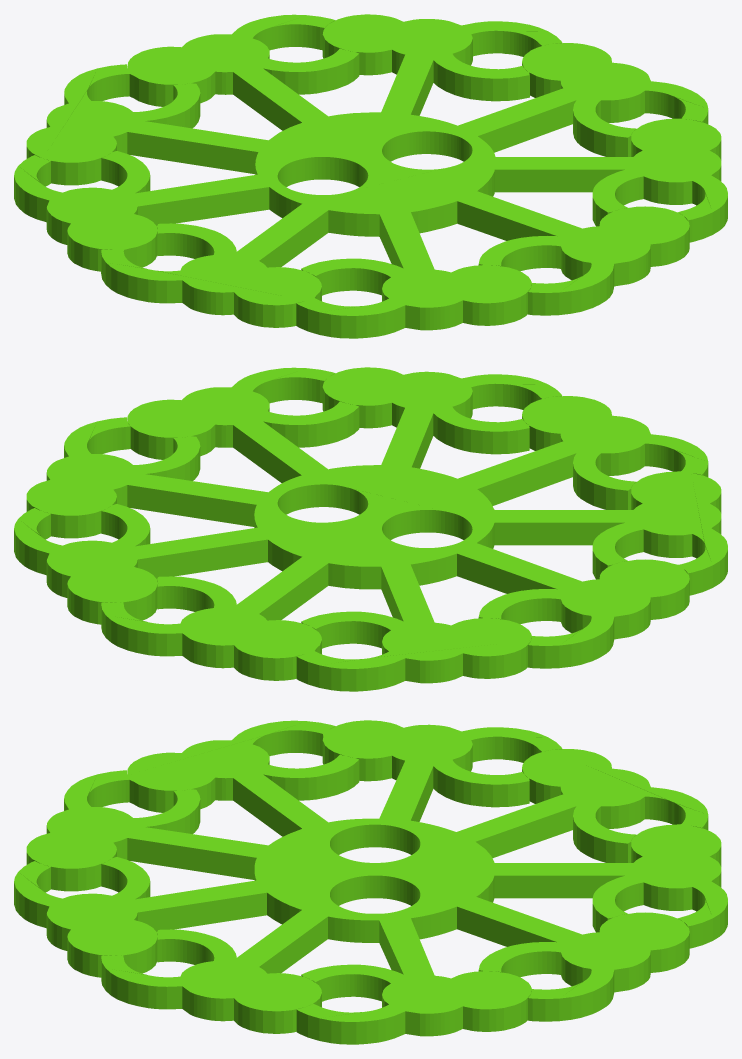
Rendered from CiliaFacePlateLightsb.fbx.
The picture shows the model from 3 angles, top to bottom: view 1: azimuth 30°, elevation 25°; view 2: azimuth 150°, elevation 25°; view 3: azimuth 270°, elevation 25°; orthographic projection.
Parts seen in each view (by area): view 1: Curve.1395; view 2: Curve.1395; view 3: Curve.1395.
Boxes of the visible parts, x1,y1,x2,y2 form: Curve.1395: (14, 14, 727, 338); Curve.1395: (14, 367, 727, 691); Curve.1395: (14, 720, 727, 1044).
Size of the model in its own units: 2.86 by 0.1 by 2.86.
